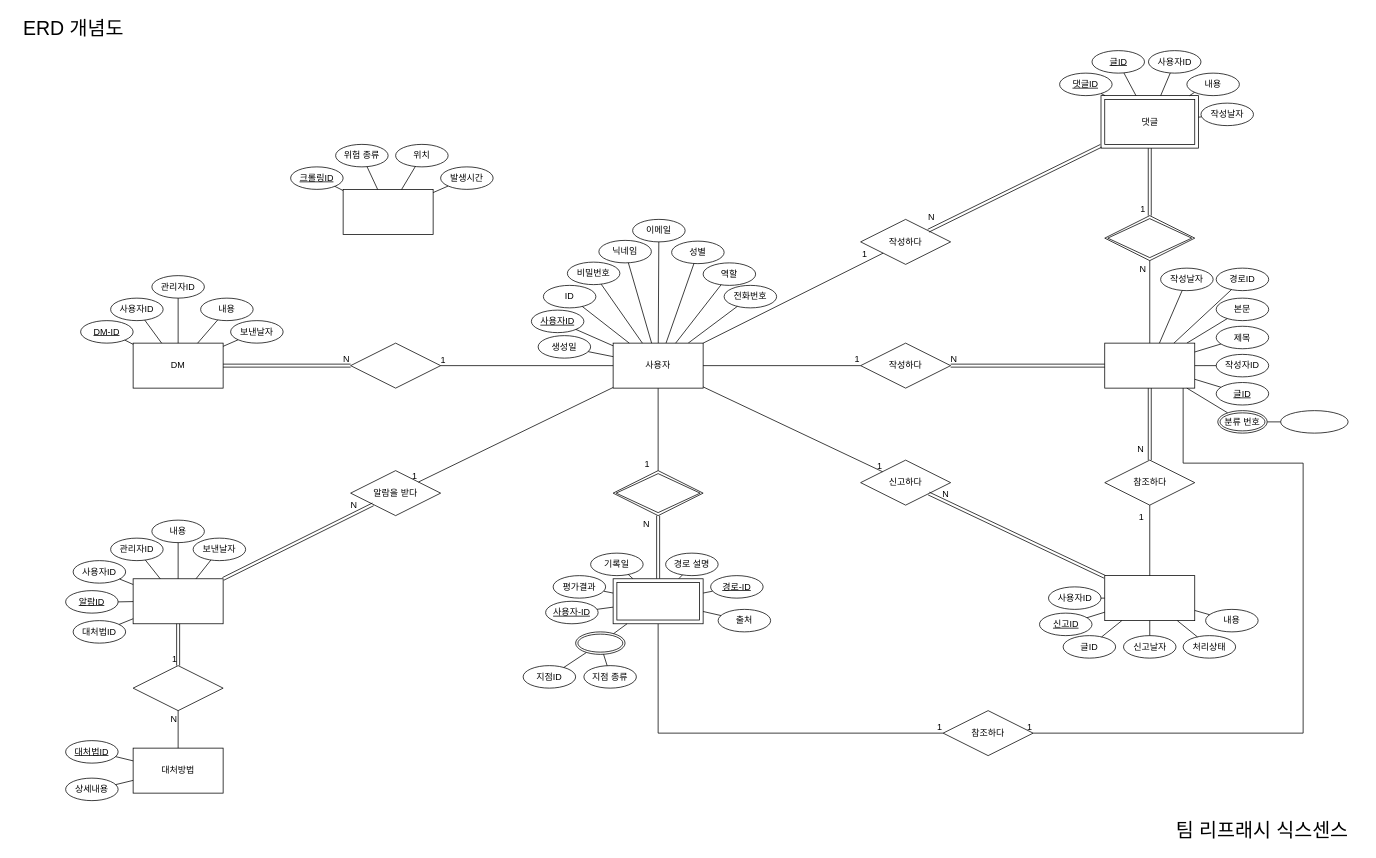
Image size: 1376x858. Some labels were removed from this diagram. Each missing label, with the centre of its shape:
경로: the point at 657,601
경로 게시판: the point at 1149,365
등록되다: the point at 1149,238
메세지를 받다: the point at 395,365
분류 세부 사항: the point at 1314,421
신고내역: the point at 1149,598
알람: the point at 177,601
이동 지점: the point at 600,642
저장 하다: the point at 657,493
크롤링: the point at 387,211
포함하다: the point at 177,688
